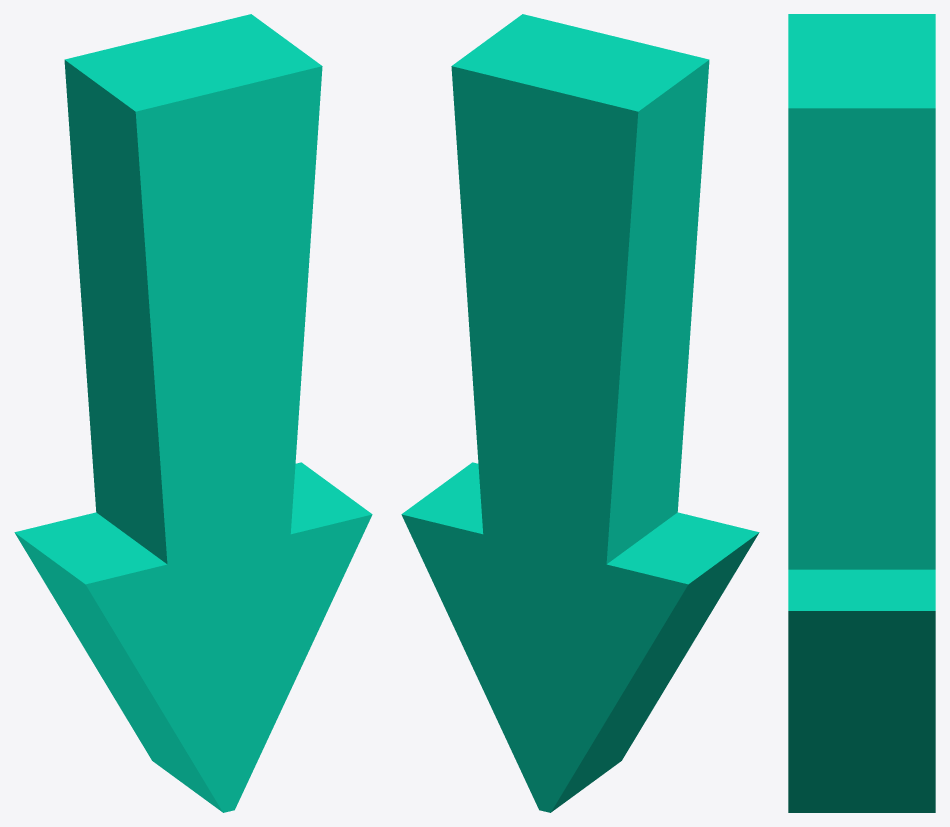
The model's file is Arrow.fbx.
The picture shows the model from 3 angles, left to right: view 1: azimuth 30°, elevation 25°; view 2: azimuth 150°, elevation 25°; view 3: azimuth 270°, elevation 25°; orthographic projection. The views are drawn at different scales.
Visible parts, largest first — view 1: Arrow; view 2: Arrow; view 3: Arrow.
Boxes of the visible parts, box(x1,y1,x2,y2) form: Arrow: box(14, 14, 372, 812); Arrow: box(401, 14, 759, 812); Arrow: box(788, 14, 935, 812).
Size of the model in its own units: 93.13 by 224 by 40.
